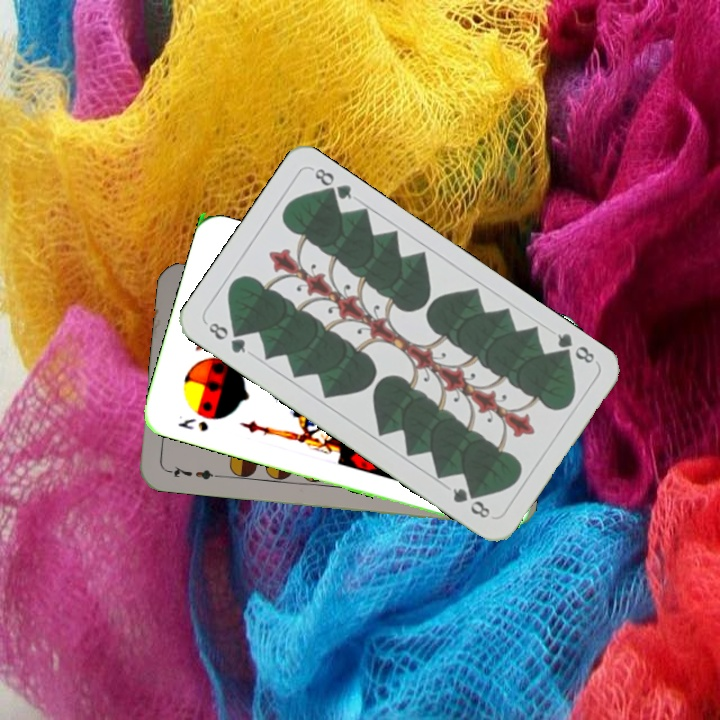E7: (163, 462, 222, 483)
G8: (204, 318, 249, 356), (552, 329, 598, 366)
SK: (174, 414, 211, 434)
